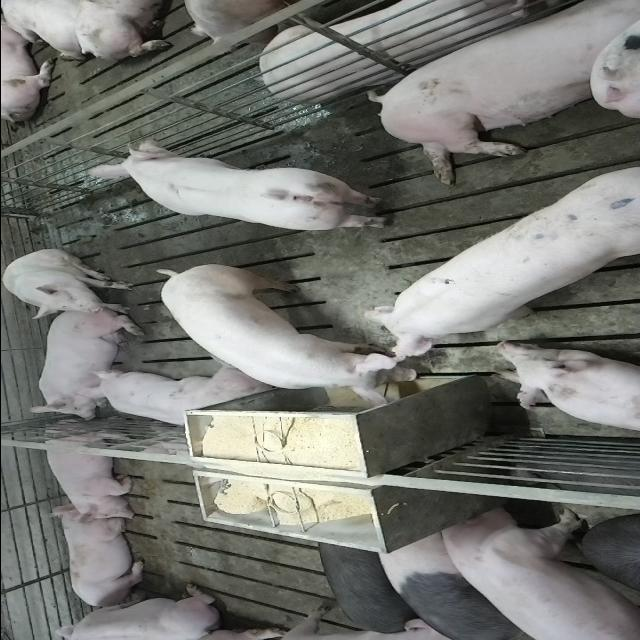Lateral_lying: (367, 0, 640, 184), (256, 1, 540, 104)
Sitting: (0, 249, 133, 319)
Standing: (367, 165, 640, 362), (152, 264, 418, 406), (82, 140, 392, 234), (435, 507, 640, 640), (372, 527, 522, 640), (306, 541, 412, 635)
Sternal_lying: (34, 305, 144, 429), (494, 342, 640, 432), (85, 365, 269, 429), (47, 508, 149, 606), (42, 422, 138, 522), (50, 588, 218, 640)
